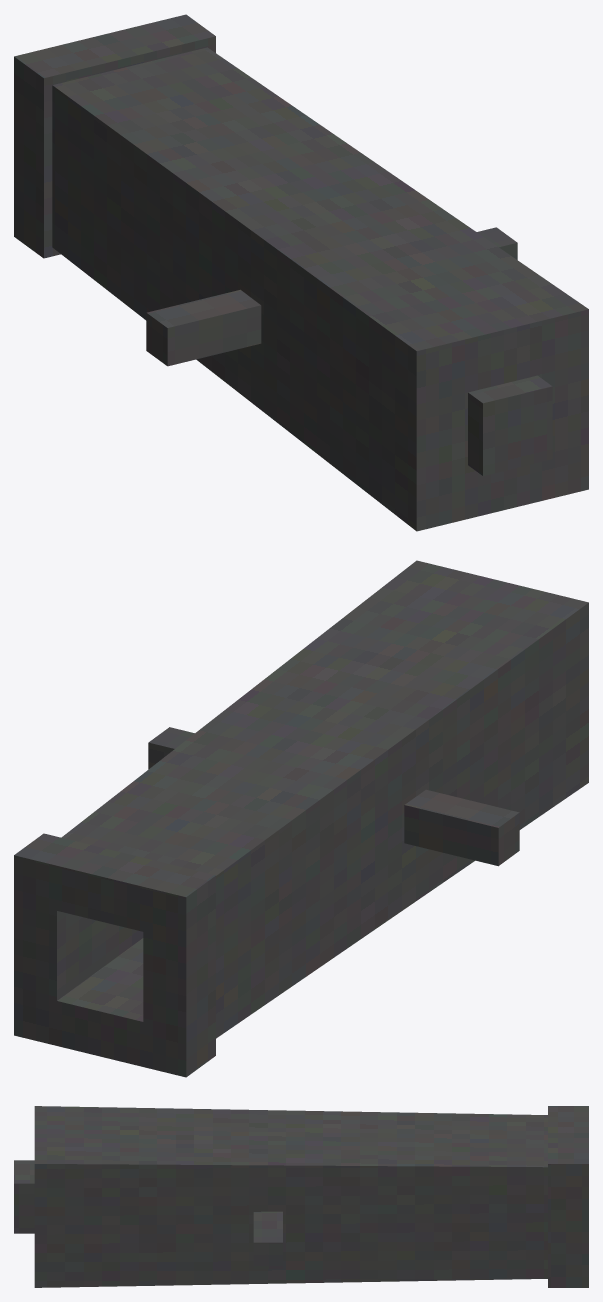
The model's file is Cannon.obj.
3 renders of one model, top to bottom at view 1: azimuth 30°, elevation 25°; view 2: azimuth 150°, elevation 25°; view 3: azimuth 270°, elevation 25°, orthographic. The views are drawn at different scales.
Visible parts, largest first — view 1: Cube_Cube.001; view 2: Cube_Cube.001; view 3: Cube_Cube.001.
Boxes of the visible parts, left/top/right/bottom form: Cube_Cube.001: left=14, top=14, right=588, bottom=531; Cube_Cube.001: left=14, top=560, right=588, bottom=1077; Cube_Cube.001: left=14, top=1106, right=588, bottom=1287.
Bounding box in the file's own units: 1.02 × 0.5 × 2.1.
